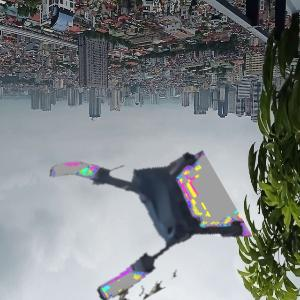drone: (52, 122, 224, 294)
